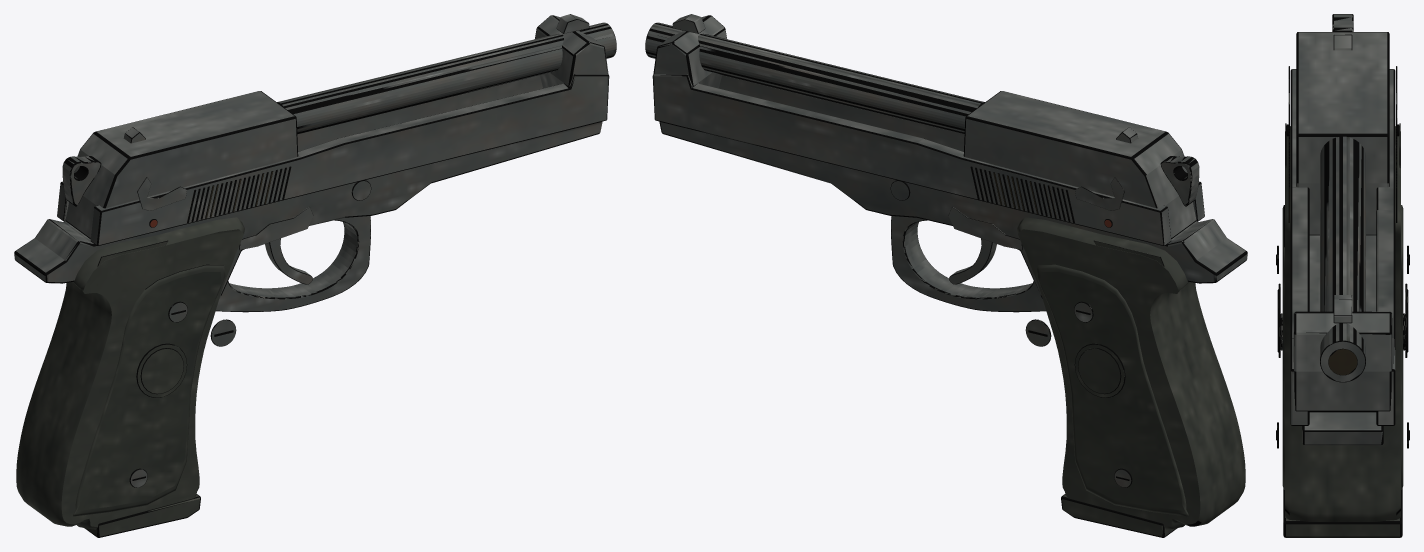
Rendered from beretta_relic.glb.
The picture shows the model from 3 angles, left to right: view 1: azimuth 30°, elevation 25°; view 2: azimuth 150°, elevation 25°; view 3: azimuth 270°, elevation 25°; orthographic projection. The views are drawn at different scales.
Visible parts, largest first — view 1: beretta_relic; view 2: beretta_relic; view 3: beretta_relic.
Boxes of the visible parts, x1,y1,x2,y2 form: beretta_relic: (14,14,616,537); beretta_relic: (645,14,1247,537); beretta_relic: (1276,14,1409,537).
Size of the model in its own units: 0.9969 by 0.6337 by 0.156.
Materials: 1 (1 with a texture image).
